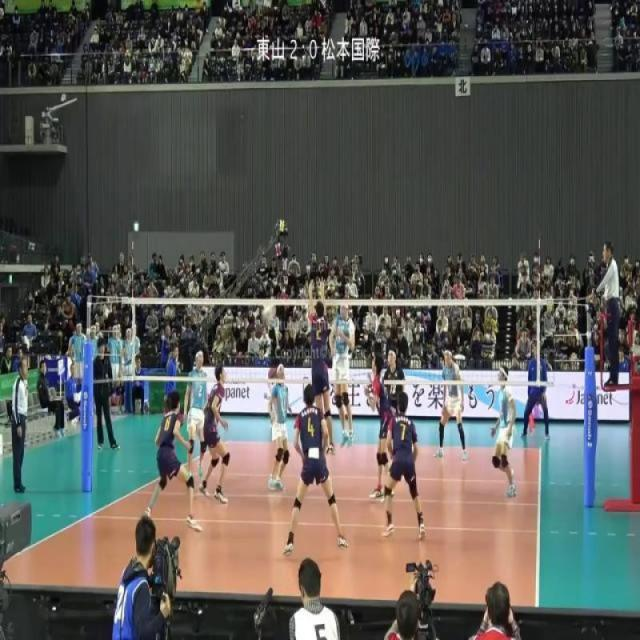volleyball: (260, 304, 276, 322)
